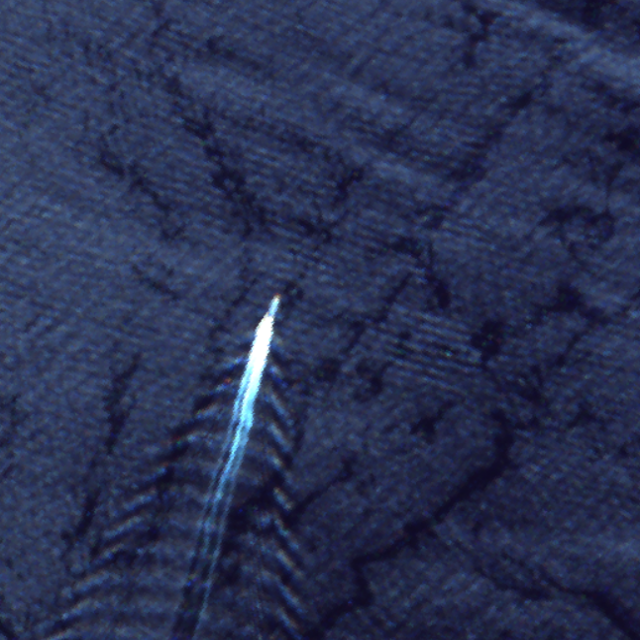wake: (115, 247, 361, 620)
